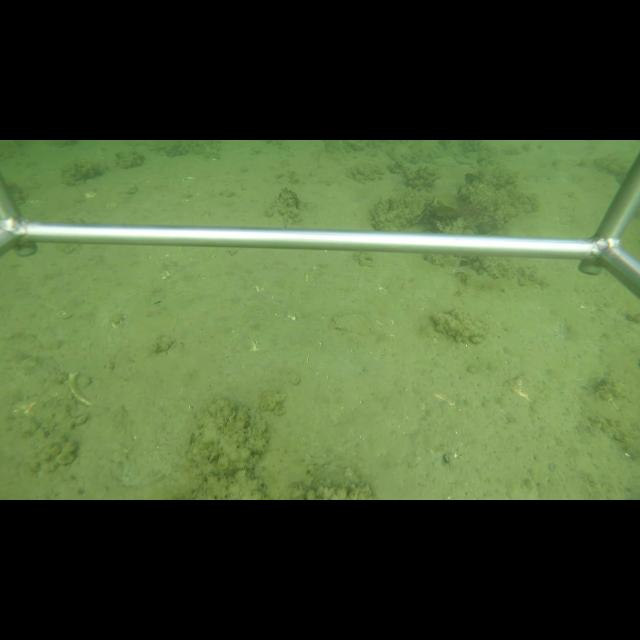Oyster-Closed: (378, 188, 438, 230)
